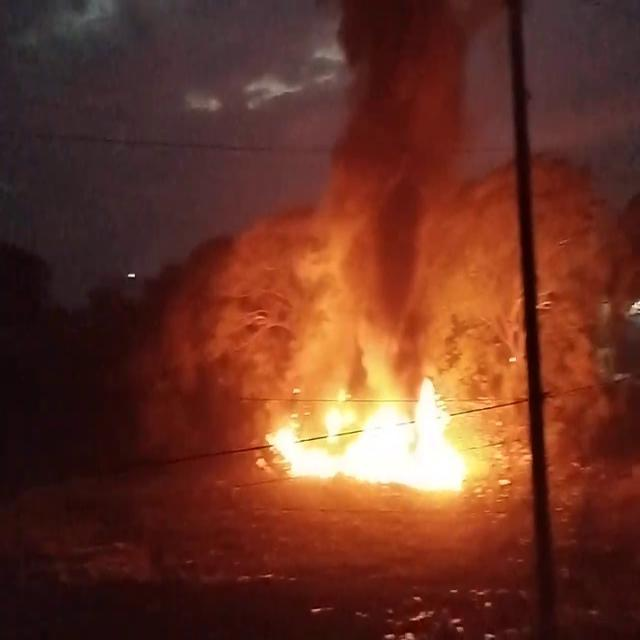Fire: (254, 352, 502, 504)
Smoke: (260, 1, 566, 344)
